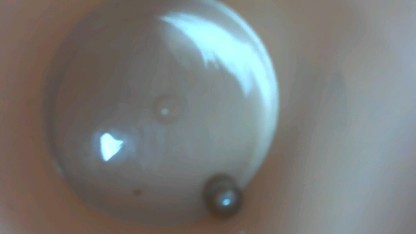ironball: (202, 176, 241, 214)
